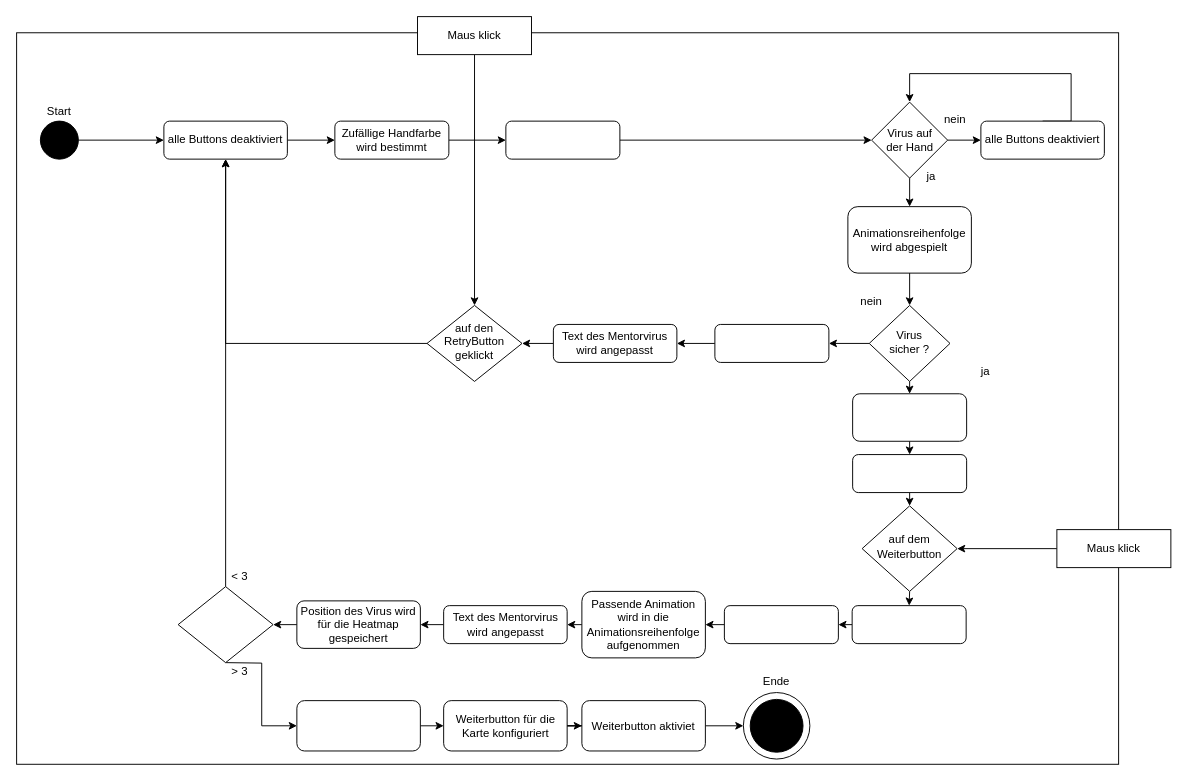
The diagram is 1188 pixels wide and 781 high, and some of its shapes have lost their labels. Here are the shapes that lost their labels. From the top down, the centre of each, then its label:
At point 562,139: "Virus wird mittig neu platziert".
At point 771,342: "Retrybutton wird aktiviert".
At point 909,417: "Hand mit Virus wird nochmal angezeigt".
At point 909,473: "Weiterbutton aktiviert".
At point 225,624: "Level ?".
At point 780,624: "Sicherstelle wird deaktiviert".
At point 908,624: "Level wird um 1 erhöht".
At point 358,725: "Heatmap mit den Positionen der Viren wird angezeigt".
